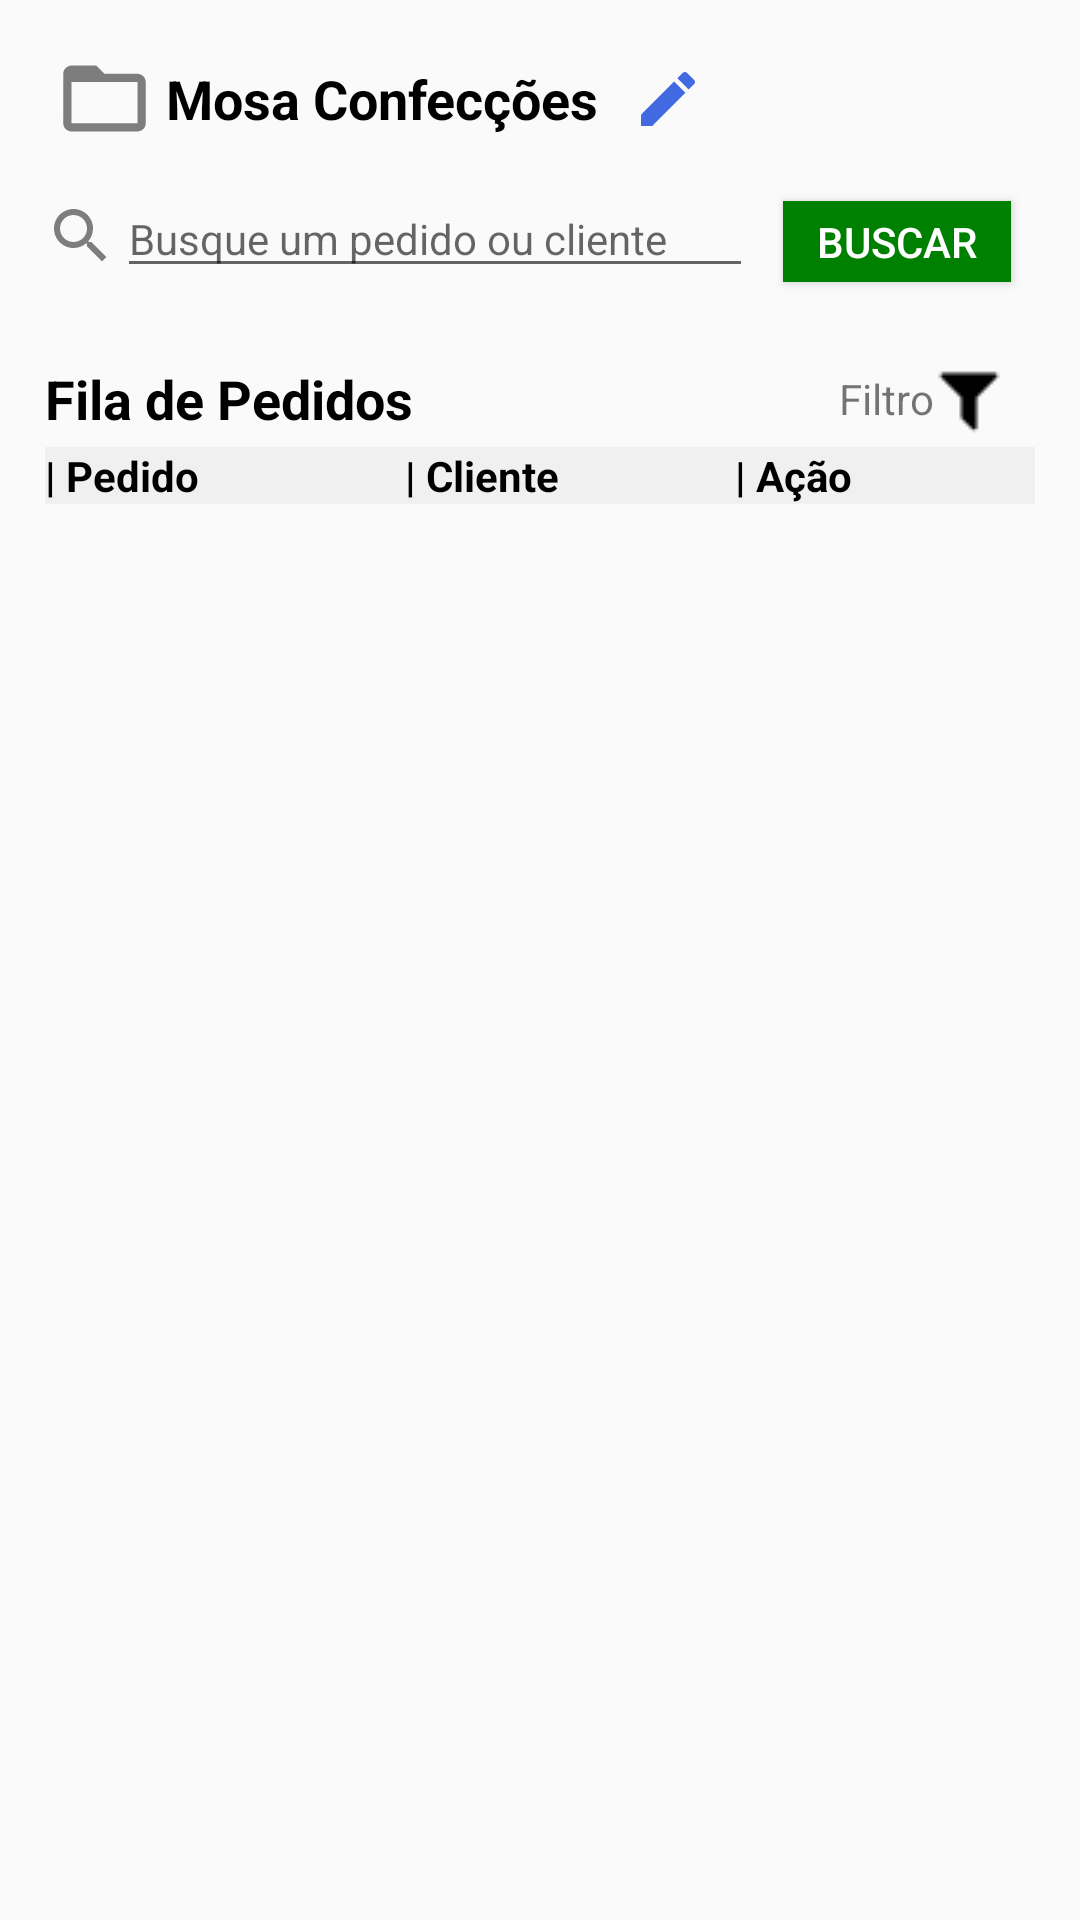

Icons on this 1080*1920 Android screen, each with the point to tap as point (x, y):
edit: point (668, 99)
search: point (80, 235)
